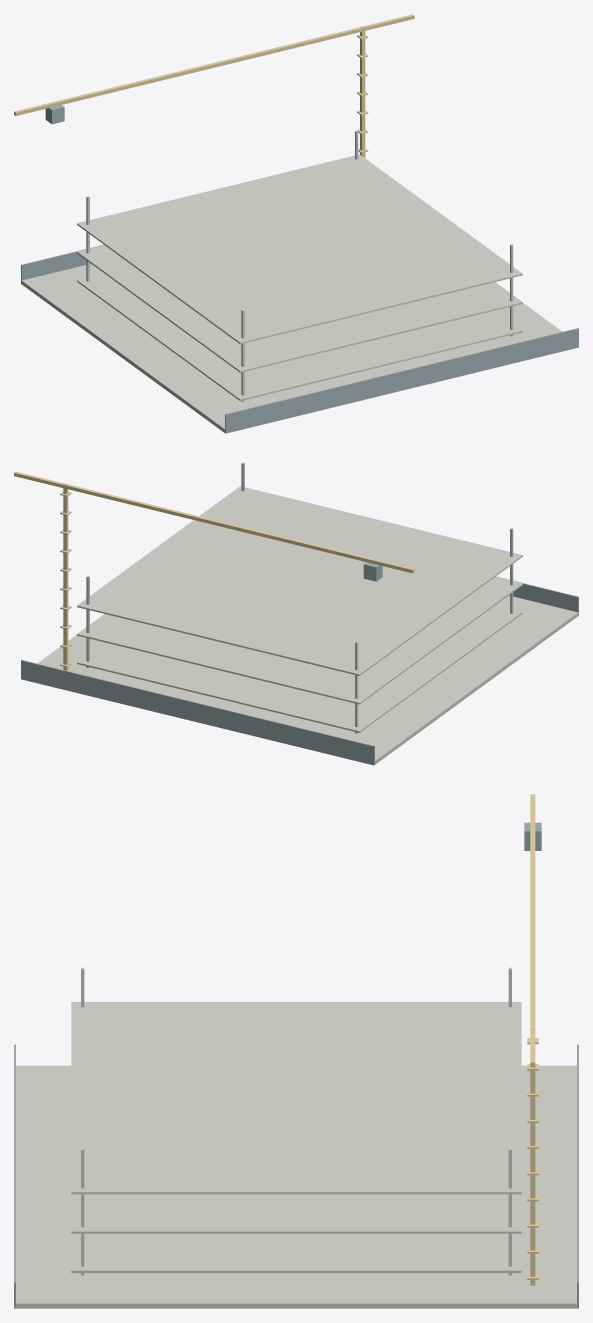
The model's file is remaster_site_4_2.glb.
3 renders of one model, top to bottom at view 1: azimuth 30°, elevation 25°; view 2: azimuth 150°, elevation 25°; view 3: azimuth 270°, elevation 25°, orthographic. The views are drawn at different scales.
Visible parts, largest first — view 1: remaster_site_4_2 stone, remaster_site_4_2 roof, remaster_site_4_2 gold, remaster_site_4_2 metal; view 2: remaster_site_4_2 stone, remaster_site_4_2 roof, remaster_site_4_2 gold, remaster_site_4_2 metal; view 3: remaster_site_4_2 stone, remaster_site_4_2 gold, remaster_site_4_2 roof, remaster_site_4_2 metal.
Part boxes in pixels (bbox=[...]): remaster_site_4_2 stone: bbox=[21, 154, 562, 432]; remaster_site_4_2 roof: bbox=[21, 105, 578, 433]; remaster_site_4_2 gold: bbox=[14, 14, 414, 157]; remaster_site_4_2 metal: bbox=[86, 130, 513, 401]; remaster_site_4_2 stone: bbox=[37, 486, 578, 764]; remaster_site_4_2 roof: bbox=[21, 562, 578, 765]; remaster_site_4_2 gold: bbox=[14, 471, 414, 670]; remaster_site_4_2 metal: bbox=[86, 462, 513, 733]; remaster_site_4_2 stone: bbox=[15, 1002, 577, 1308]; remaster_site_4_2 gold: bbox=[527, 794, 538, 1285]; remaster_site_4_2 roof: bbox=[14, 822, 578, 1308]; remaster_site_4_2 metal: bbox=[81, 967, 511, 1275].
Size of the model in its own units: 44 by 20 by 39.14.
